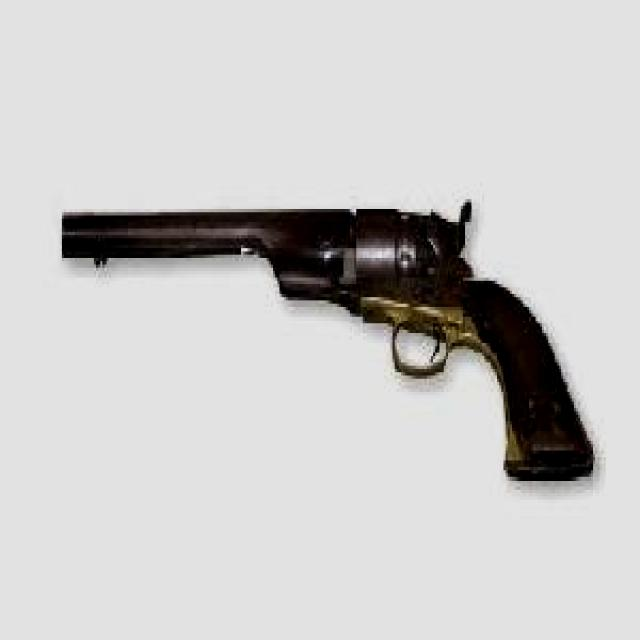pistol: (64, 189, 599, 480)
